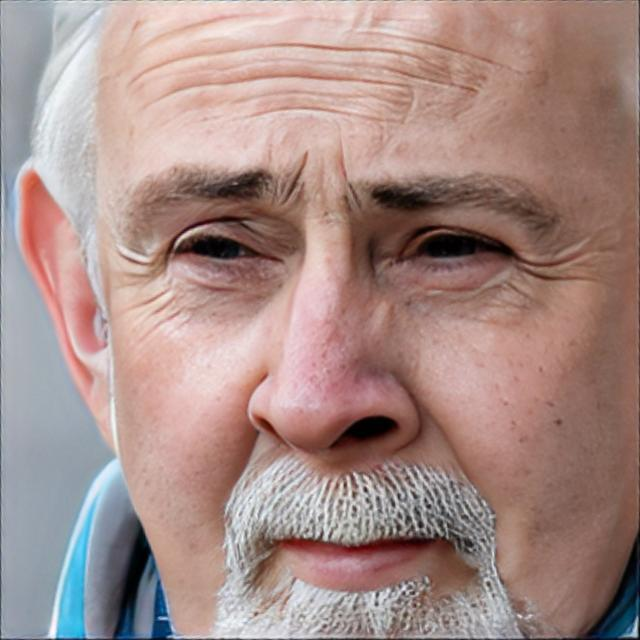disgust: (99, 2, 640, 640)
